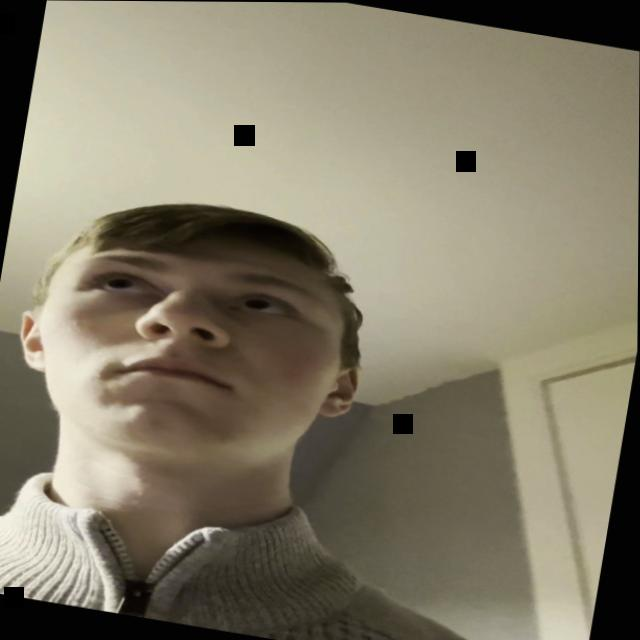NO-Mask: (10, 194, 381, 512)
